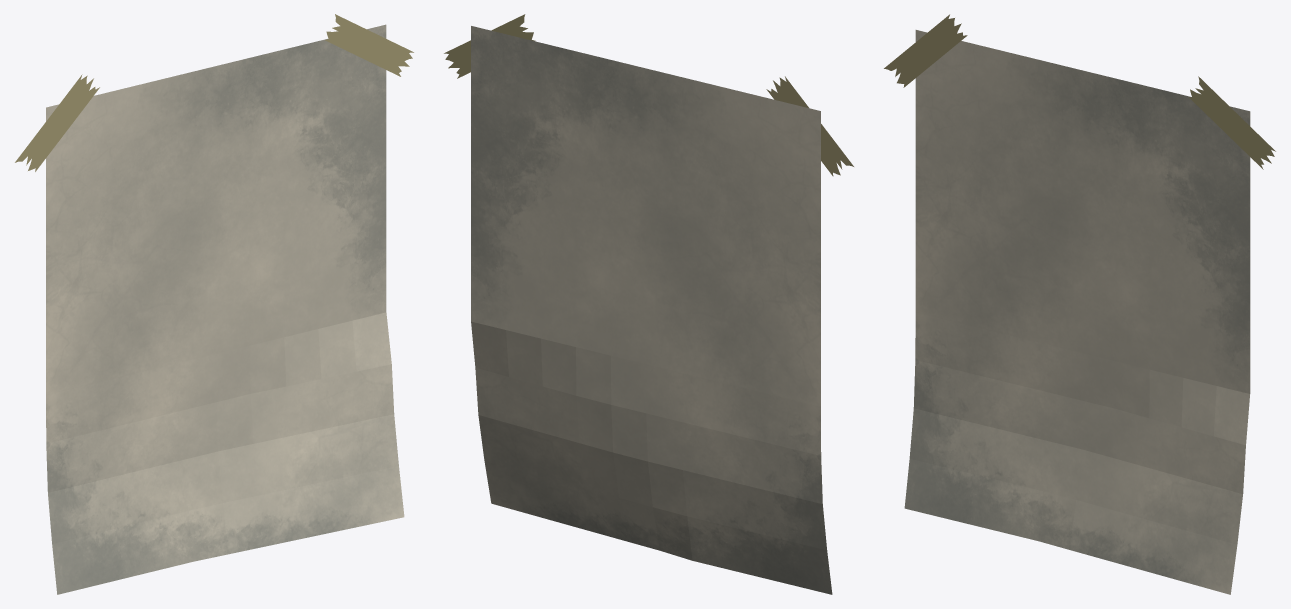
Rendered from poster_basic__low_poly.glb.
3 views of the same model, side by side, from view 1: azimuth 30°, elevation 25°; view 2: azimuth 150°, elevation 25°; view 3: azimuth 330°, elevation 25° (orthographic). The views are drawn at different scales.
Parts seen in each view (by area): view 1: Paper, Tape L, Tape R; view 2: Paper, Tape L, Tape R; view 3: Paper, Tape R, Tape L.
Boxes of the visible parts, x1,y1,x2,y2 form: Paper: (46,24,404,594); Tape L: (15,74,99,171); Tape R: (325,14,413,76); Paper: (471,26,832,594); Tape L: (766,76,853,176); Tape R: (444,14,535,78); Paper: (904,30,1250,594); Tape R: (1189,76,1275,169); Tape L: (884,14,967,87).
Size of the model in its own units: 2.77 by 3.34 by 0.2268.
Materials: 3 (1 with a texture image).
